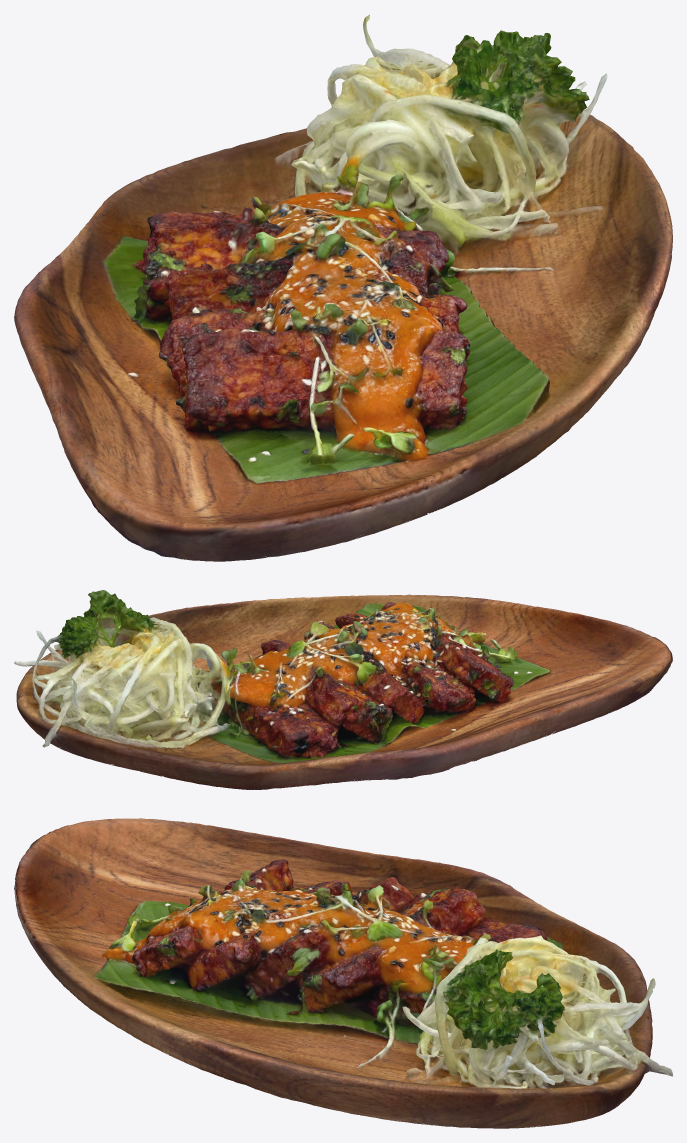
Rendered from Balinese_tempeh.glb.
3 views of the same model, one above another, from view 1: azimuth 30°, elevation 25°; view 2: azimuth 150°, elevation 25°; view 3: azimuth 270°, elevation 25° (orthographic). The views are drawn at different scales.
Parts seen in each view (by area): view 1: pCube2; view 2: pCube2; view 3: pCube2.
Boxes of the visible parts, <box> form: pCube2: <box>14,14,672,561</box>; pCube2: <box>14,590,672,789</box>; pCube2: <box>14,818,672,1128</box>.
Size of the model in its own units: 0.2562 by 0.0578 by 0.2455.
Materials: 1 (1 with a texture image).
